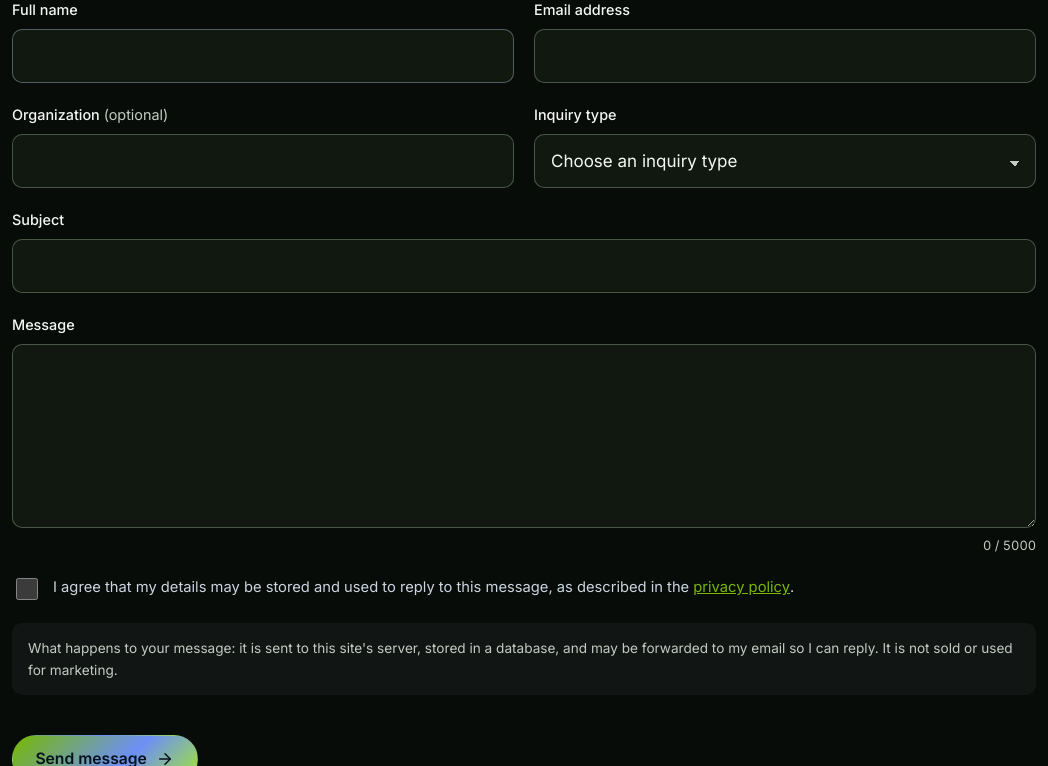
Test: ContactForm submission › never claims email delivery on success
In the field labelled "Full name": coordinates (263, 56) [12,29,514,83], type "  Alex Morgan "
In the field labelled "Email address": coordinates (785, 56) [534,29,1036,83], type "alex@example.com"
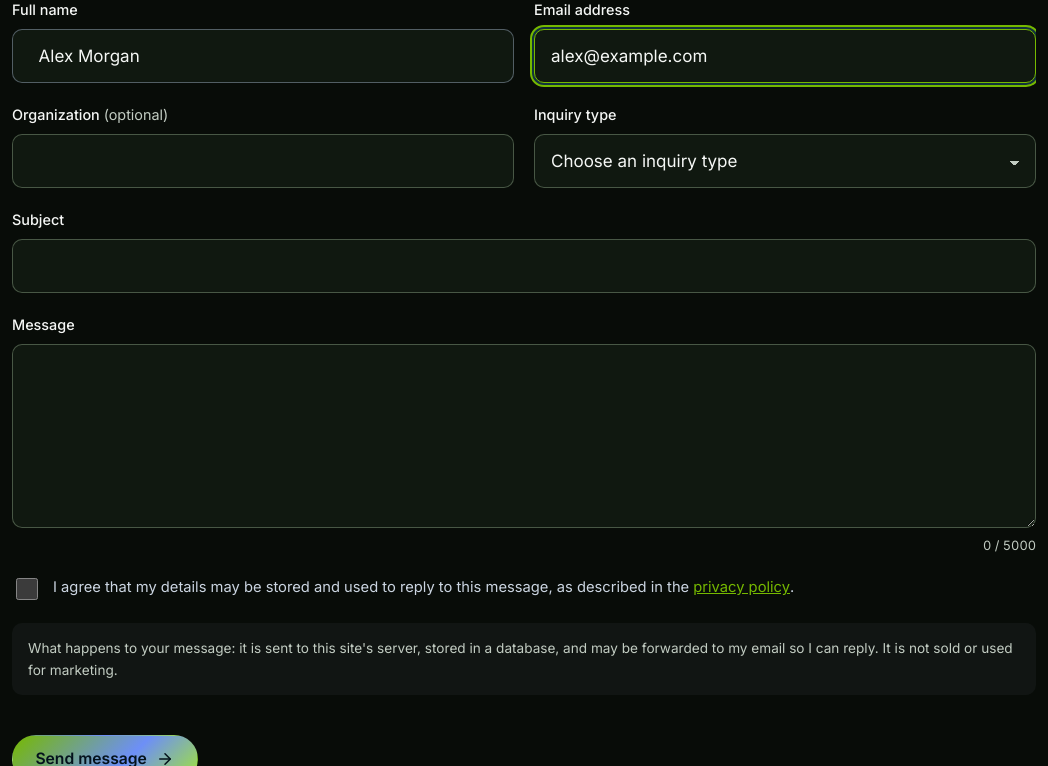
Select "Collaboration" in the dropdown labelled "Inquiry type": coordinates (785, 161) [534,134,1036,188]
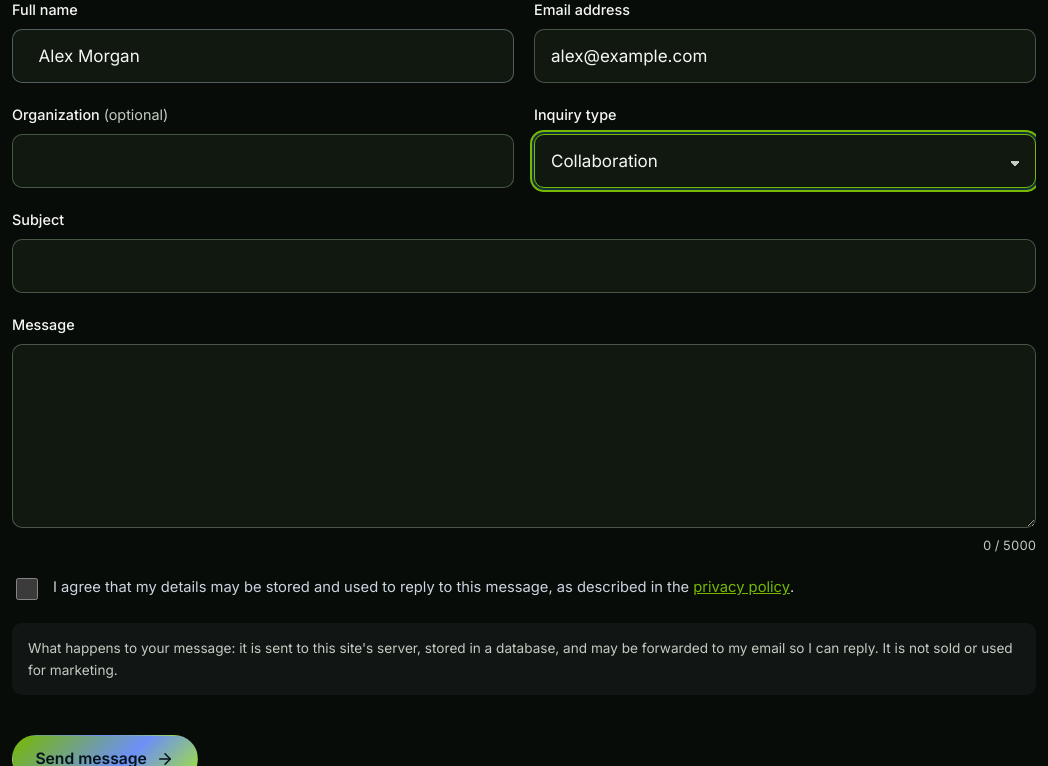
In the field labelled "Subject": coordinates (524, 266) [12,239,1036,293], type "Working together"
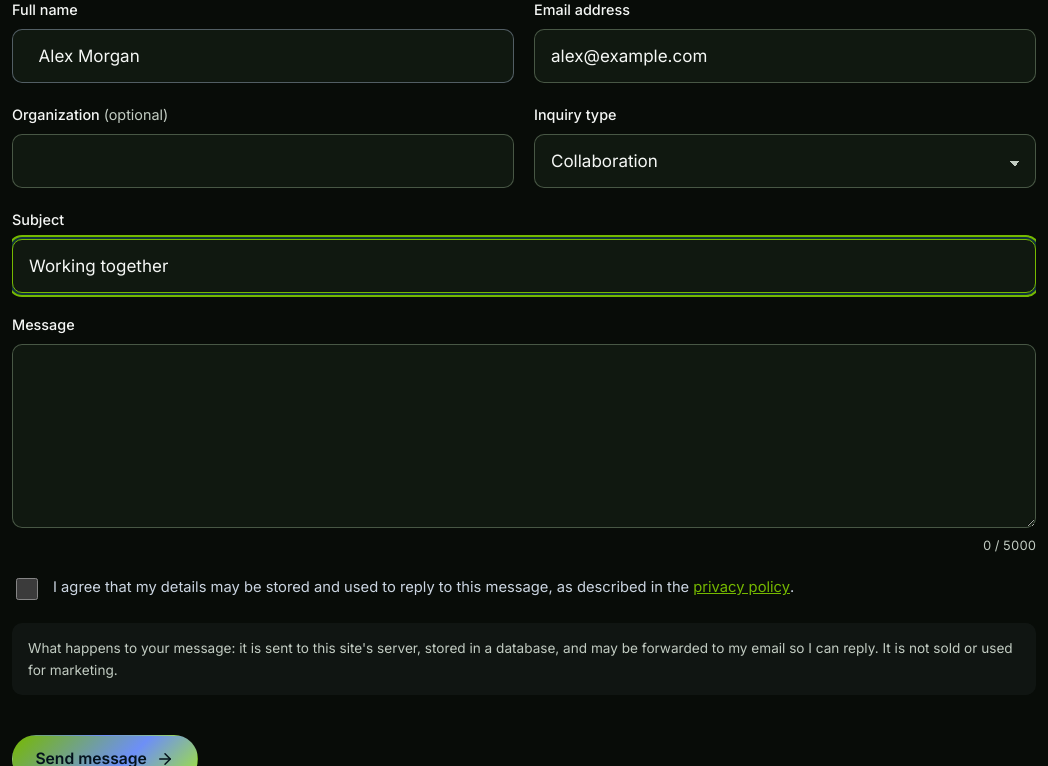
In the text box labelled "Message": coordinates (524, 436) [12,344,1036,528], type "I would like to discuss a collaboration."
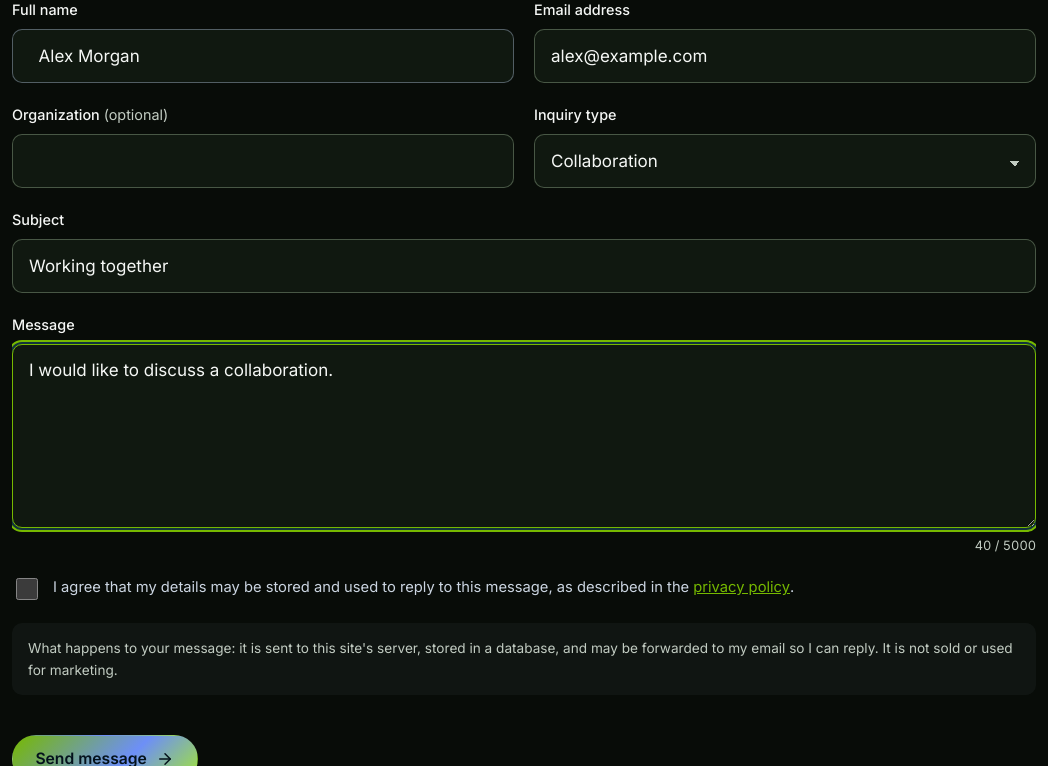
Click the checkbox labelled "I agree": coordinates (27, 589) [16,578,38,600]
(page scrolled)
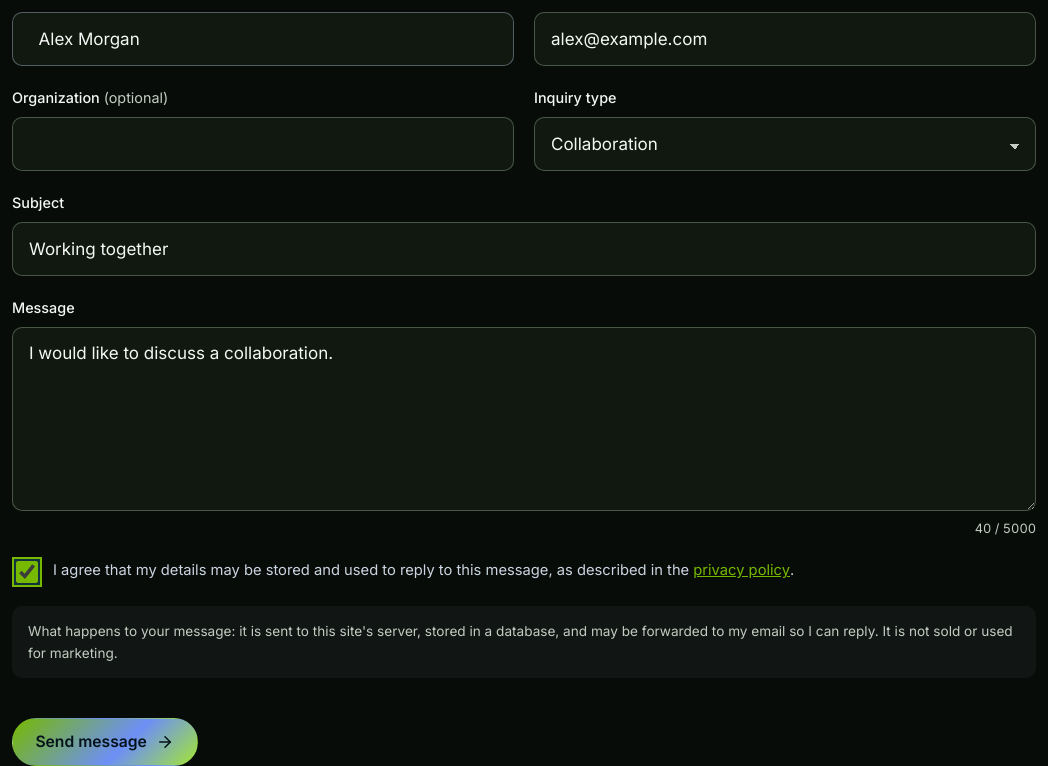
Click the button "Send message": coordinates (105, 742) [12,718,198,765]
(page scrolled)
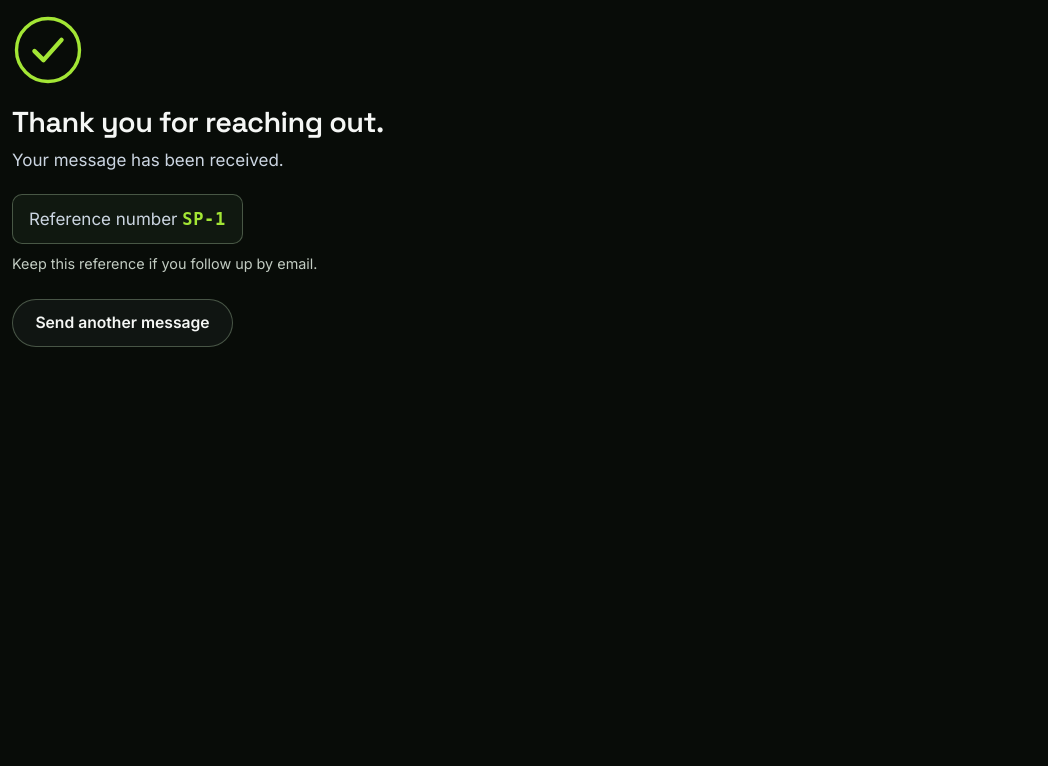
expect the heading "Thank you for reaching out." is shown: met, box [12,106,384,138]
